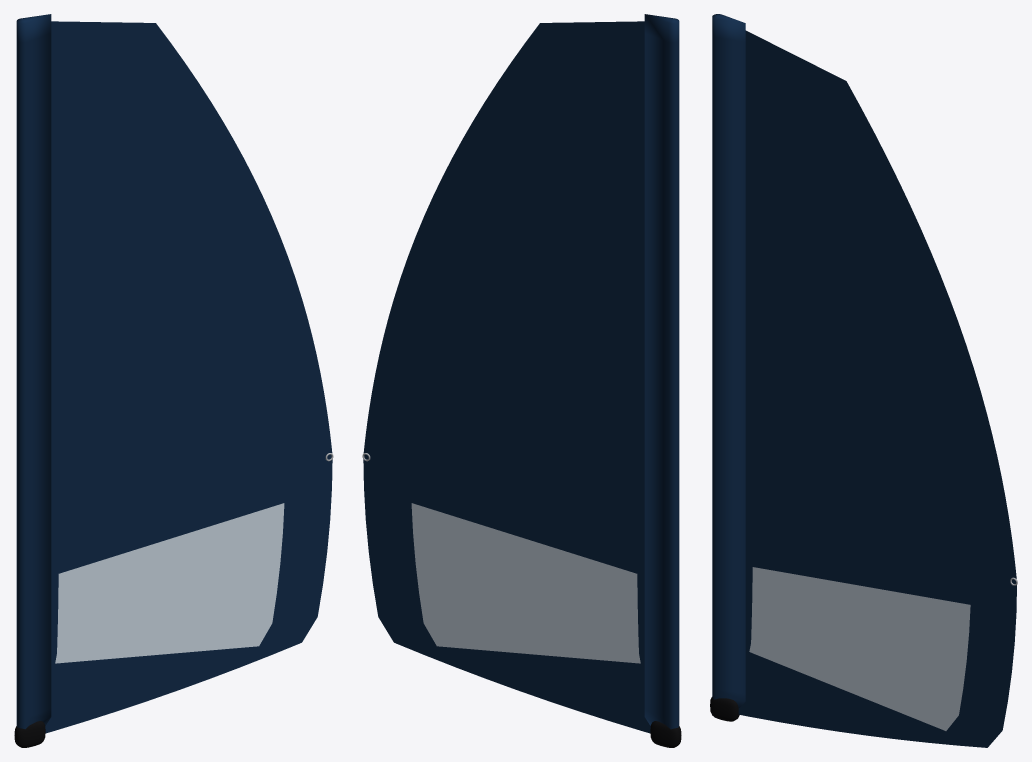
File: southsails_slalom_6_8.glb
3 views of the same model, side by side, from view 1: azimuth 30°, elevation 25°; view 2: azimuth 150°, elevation 25°; view 3: azimuth 330°, elevation 25° (orthographic). The views are drawn at different scales.
Parts seen in each view (by area): view 1: SailCloth, TackFairing; view 2: SailCloth, TackFairing; view 3: SailCloth, TackFairing.
Boxes of the visible parts, x1,y1,x2,y2 form: SailCloth: (16, 14, 332, 733); TackFairing: (14, 721, 45, 747); SailCloth: (363, 14, 679, 733); TackFairing: (650, 721, 681, 747); SailCloth: (712, 14, 1016, 747); TackFairing: (710, 697, 739, 721).
Size of the model in its own units: 2.01 by 4.41 by 0.08.
